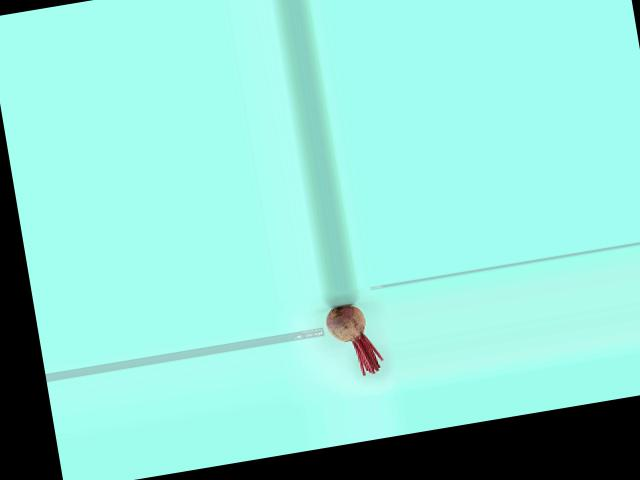beet: (323, 300, 384, 379)
